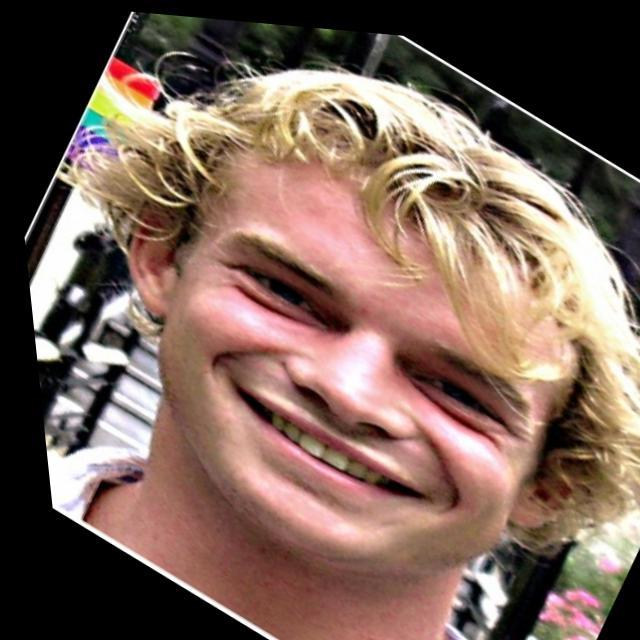Nonhelmet: (59, 59, 639, 579)
